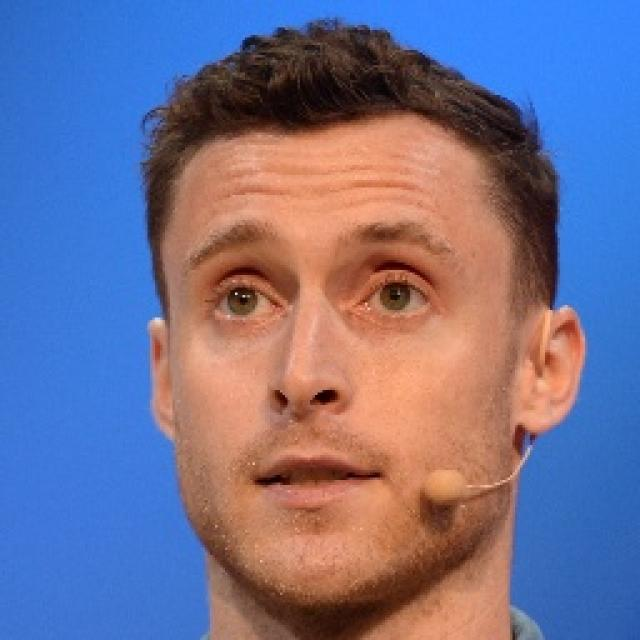earlobe: (514, 305, 586, 436), (145, 318, 178, 440)
